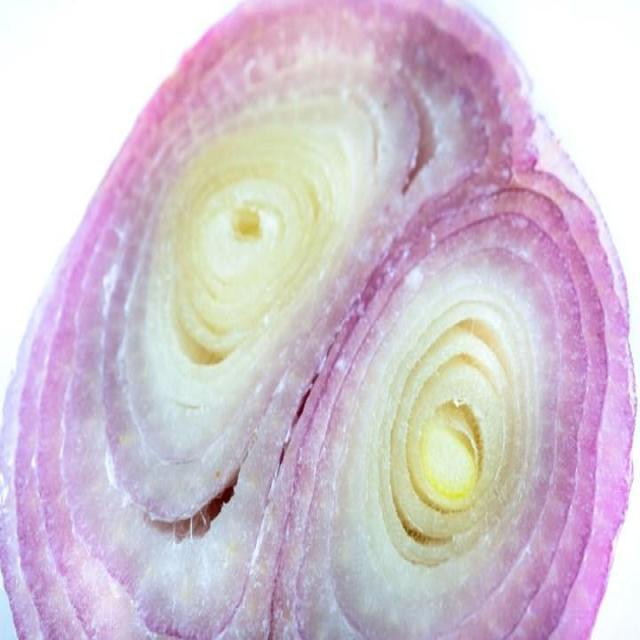Onion: (8, 4, 636, 572)
